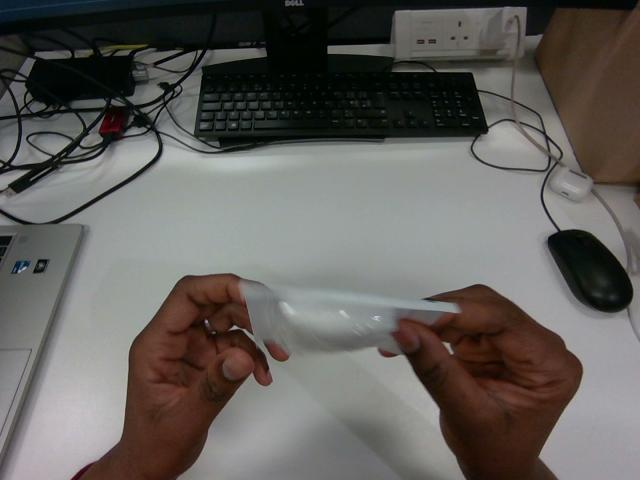gauze: (240, 280, 458, 352)
